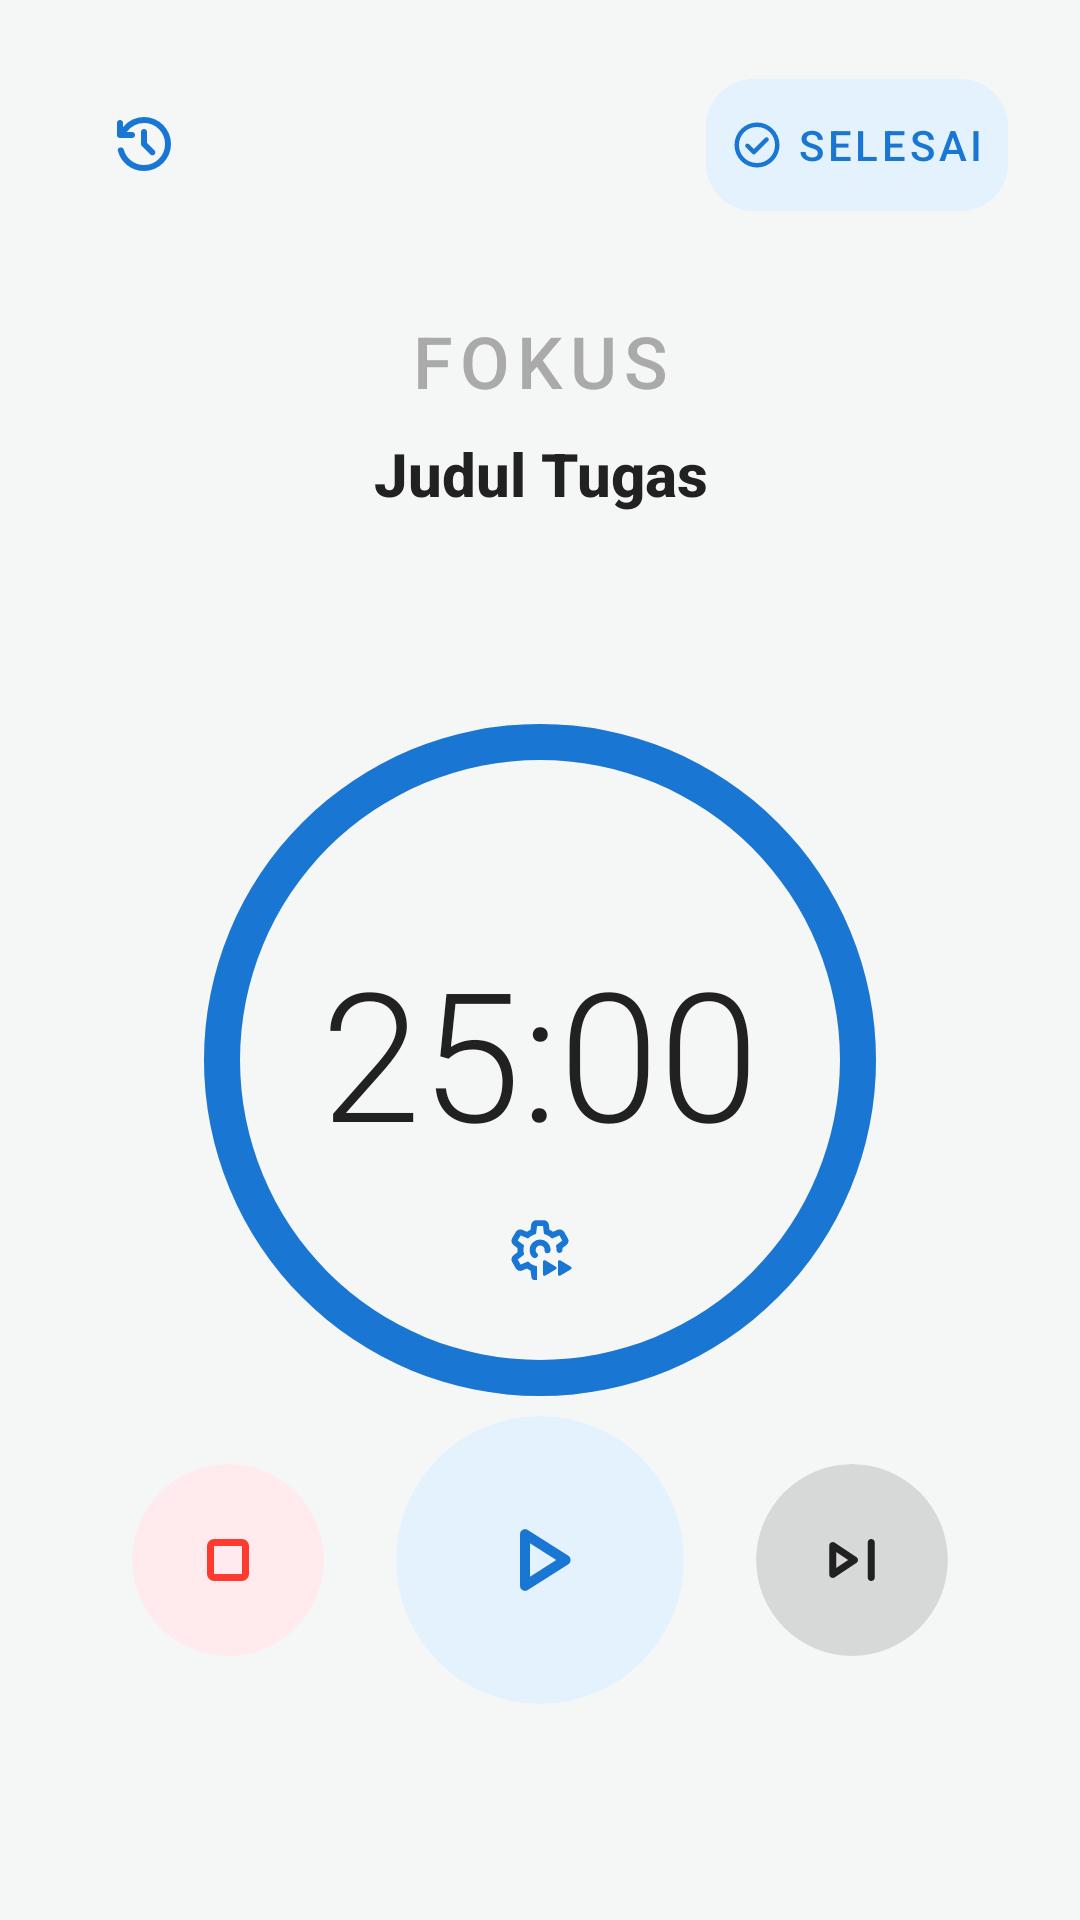

Named icons in this screenshot (1080×1920) and their bounding boxes, (x1, y1, x2, y2):
Atur waktu dan suara: (511, 1220, 572, 1280)
play arrow: (520, 1529, 571, 1591)
Riwayat: (117, 117, 171, 171)
skip next: (829, 1539, 875, 1581)
stop: (207, 1539, 249, 1581)
